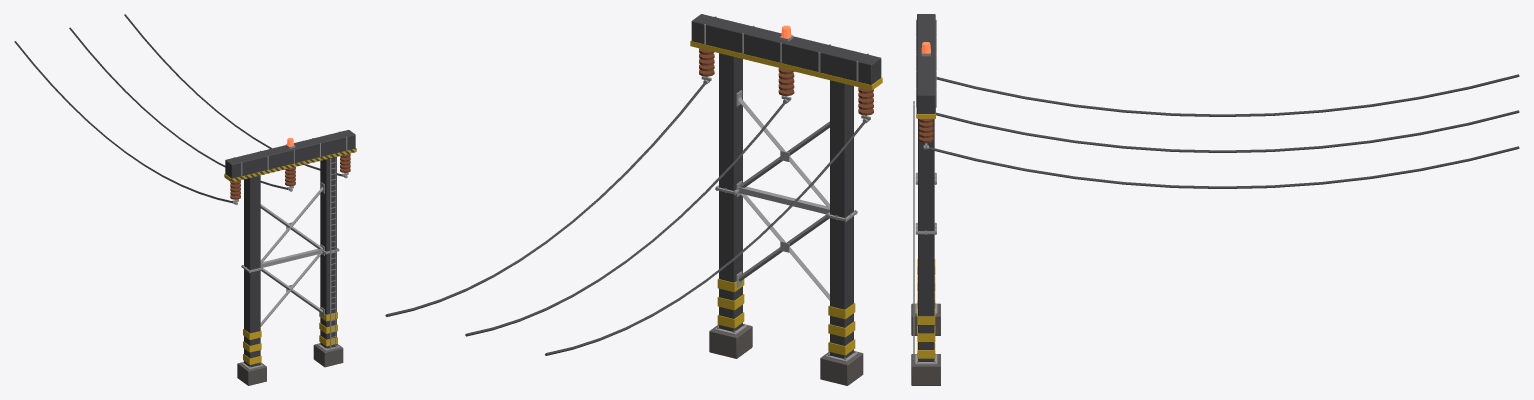
Rendered from pylon.glb.
The picture shows the model from 3 angles, left to right: view 1: azimuth 30°, elevation 25°; view 2: azimuth 150°, elevation 25°; view 3: azimuth 270°, elevation 25°; orthographic projection. The views are drawn at different scales.
Visible parts, largest first — view 1: pylon; view 2: pylon; view 3: pylon.
Part boxes in pixels (x1,y1,x2,y2): pylon: [14, 14, 356, 385]; pylon: [385, 14, 882, 385]; pylon: [911, 14, 1519, 385].
Size of the model in its own units: 10.5 by 18.55 by 32.82.
